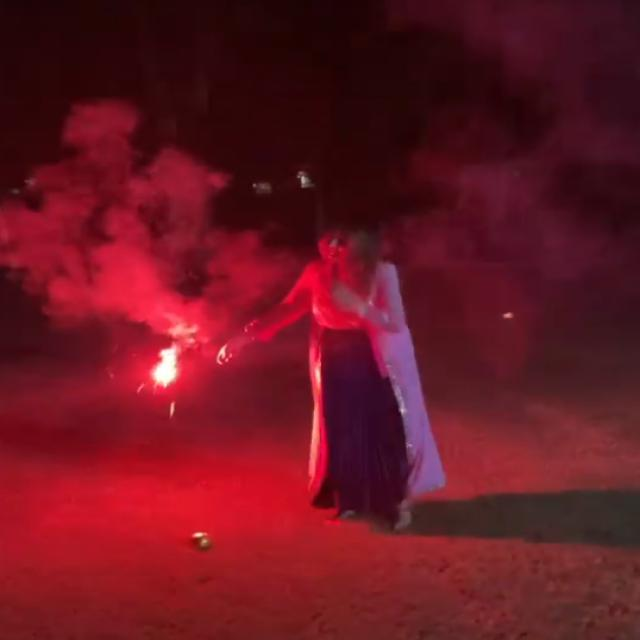fire: (149, 346, 181, 388)
